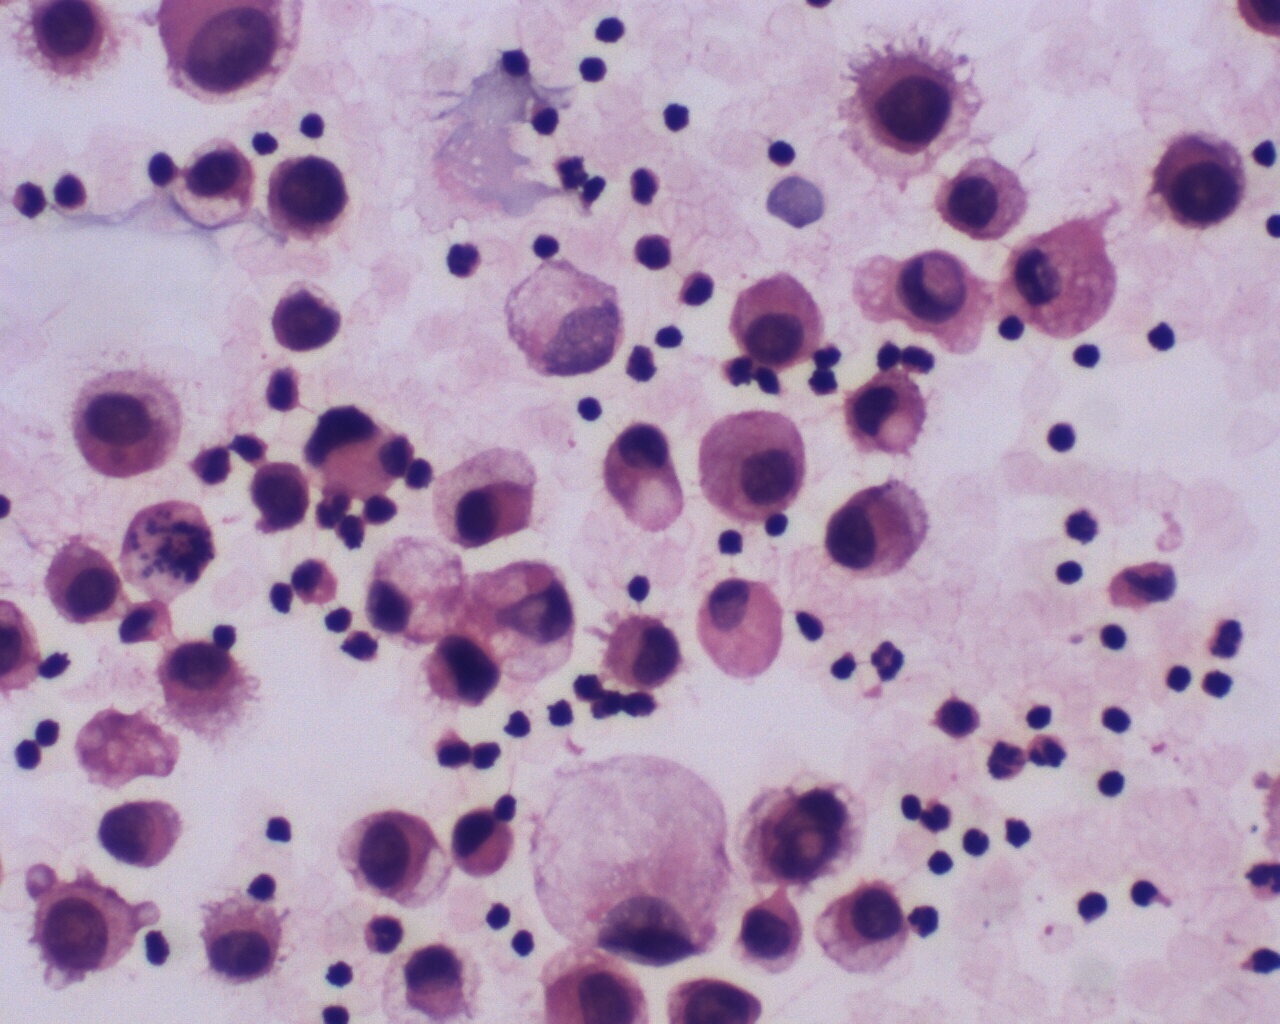ab: (844, 30, 967, 154), (29, 862, 148, 983), (745, 779, 864, 891), (113, 498, 229, 607), (340, 801, 445, 909), (1155, 123, 1246, 233), (265, 149, 352, 248), (262, 271, 349, 358), (730, 882, 807, 975), (96, 796, 186, 875), (392, 940, 478, 1019), (421, 628, 501, 709), (246, 458, 320, 528)
histo: (523, 742, 737, 969), (697, 575, 787, 685)
lymph: (1042, 410, 1083, 453), (1090, 769, 1137, 804), (572, 53, 618, 88), (1094, 616, 1132, 658), (574, 386, 607, 429), (1051, 552, 1090, 589), (295, 104, 329, 146), (1067, 338, 1106, 373), (767, 133, 801, 169)
meso: (64, 366, 189, 482), (700, 404, 814, 526), (726, 269, 825, 374), (38, 535, 129, 630), (448, 808, 519, 884)
neutro: (864, 630, 917, 686), (623, 161, 666, 215), (1023, 728, 1069, 775), (7, 174, 51, 223), (437, 238, 485, 281), (906, 903, 947, 940)
